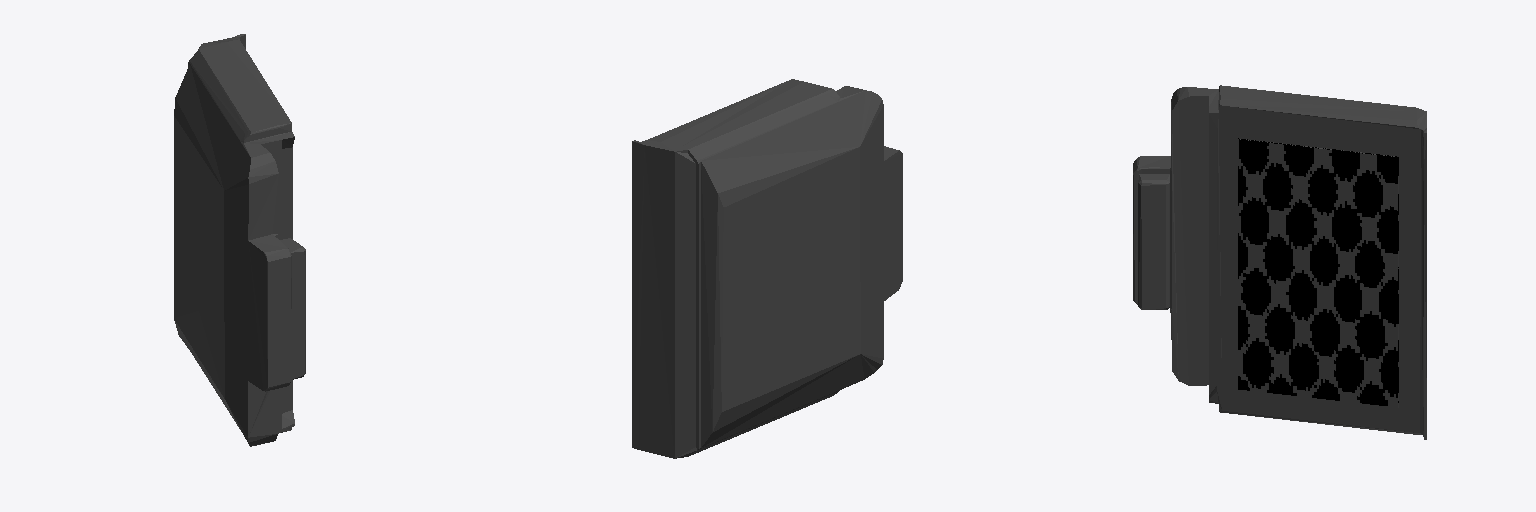
3 renders of one model, left to right at view 1: azimuth 30°, elevation 25°; view 2: azimuth 150°, elevation 25°; view 3: azimuth 270°, elevation 25°, orthographic.
Parts seen in each view (by area): view 1: SM_Simulator_TabletBase_DR017_S0150_A_000; view 2: SM_Simulator_TabletBase_DR017_S0150_A_000; view 3: SM_Simulator_TabletBase_DR017_S0150_A_000.
Boxes of the visible parts, box(x1,y1,x2,y2) form: SM_Simulator_TabletBase_DR017_S0150_A_000: box(174, 34, 305, 446); SM_Simulator_TabletBase_DR017_S0150_A_000: box(632, 79, 902, 458); SM_Simulator_TabletBase_DR017_S0150_A_000: box(1133, 85, 1426, 439).
Size of the model in its own units: 0.0804 by 0.1912 by 0.1654.
Materials: 1 (1 with a texture image).